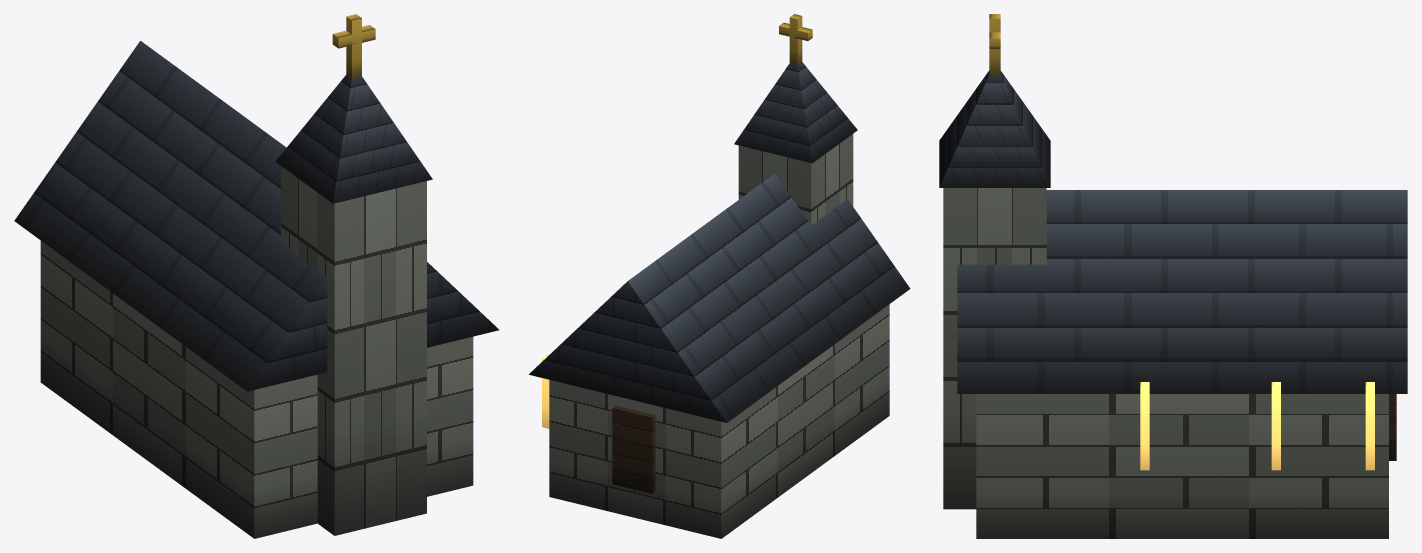
Rendered from church.glb.
3 views of the same model, side by side, from view 1: azimuth 30°, elevation 25°; view 2: azimuth 150°, elevation 25°; view 3: azimuth 270°, elevation 25° (orthographic). The views are drawn at different scales.
Visible parts, largest first — view 1: church; view 2: church; view 3: church.
Part boxes in pixels (x1,y1,x2,y2): church: [14, 14, 499, 538]; church: [529, 14, 910, 538]; church: [939, 14, 1407, 538].
Size of the model in its own units: 1.5 by 2.77 by 2.5.
1 material, 1 textured.
